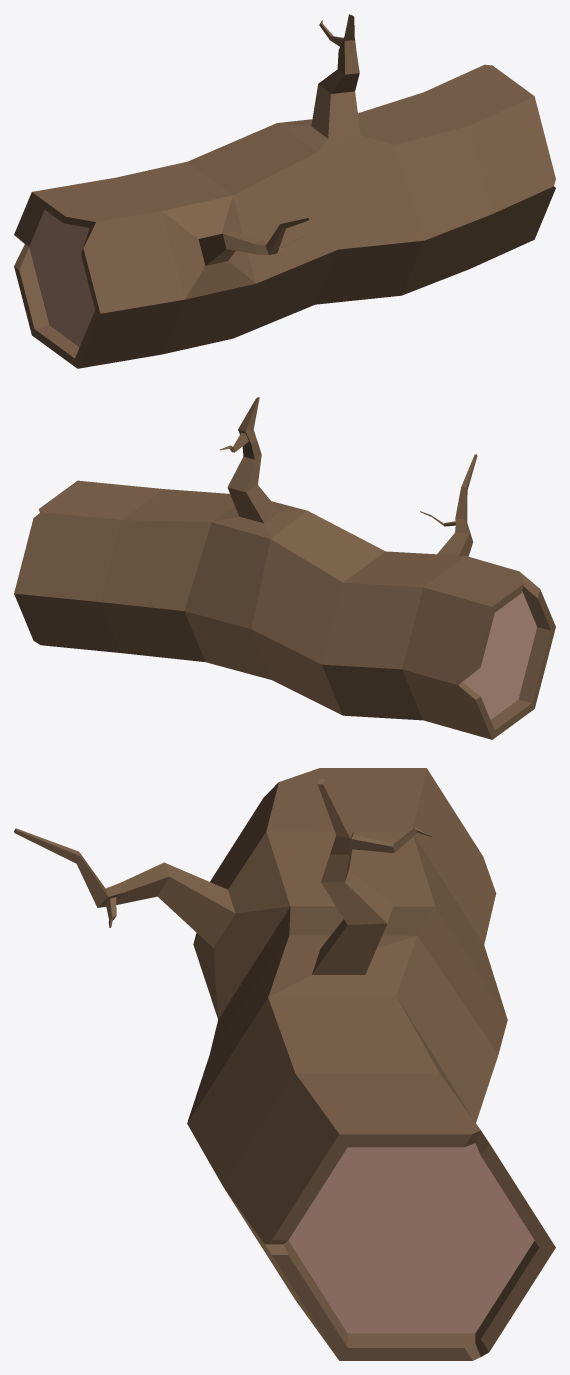
Rendered from Log_V1.fbx.
3 views of the same model, one above another, from view 1: azimuth 30°, elevation 25°; view 2: azimuth 150°, elevation 25°; view 3: azimuth 270°, elevation 25° (orthographic). The views are drawn at different scales.
Parts seen in each view (by area): view 1: Cylinder; view 2: Cylinder; view 3: Cylinder.
Boxes of the visible parts, <box> form: Cylinder: <box>14,14,555,368</box>; Cylinder: <box>14,397,555,739</box>; Cylinder: <box>14,768,555,1360</box>.
Size of the model in its own units: 600 by 345 by 375.
